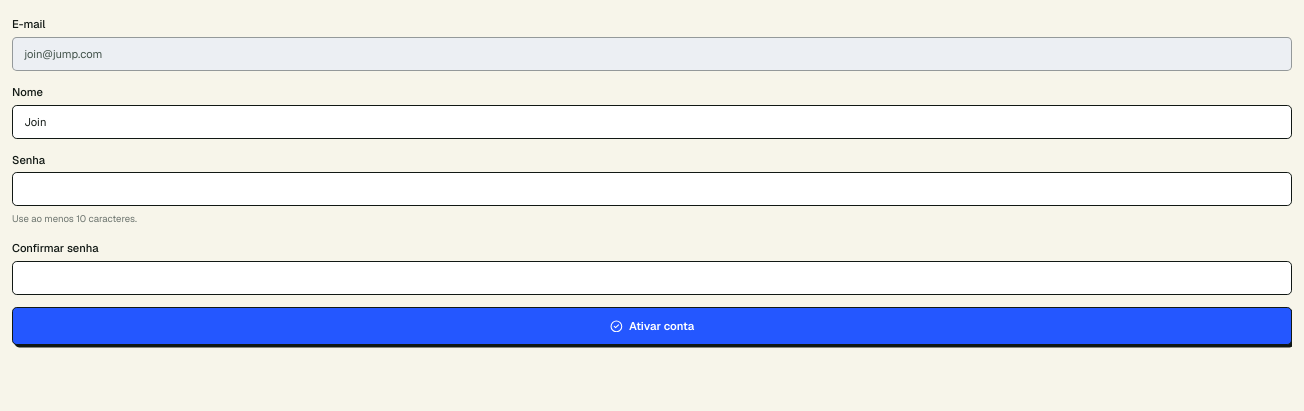
Test: AcceptInviteForm — client guards › does not submit when the confirmation does not match
In the password field labelled "Senha": (652,189) [12, 172, 1292, 206], type "uma-senha-bem-longa"
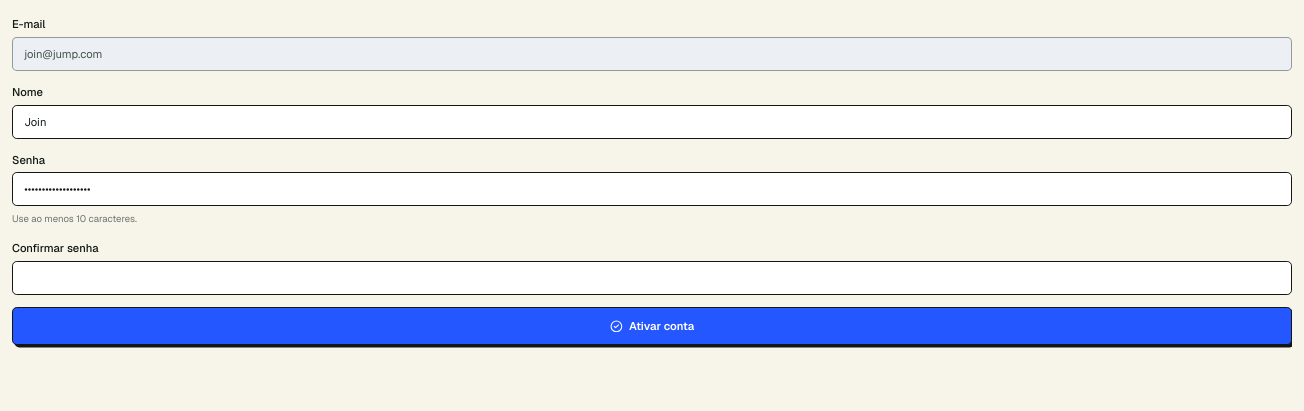
In the password field labelled "Confirmar senha": (652,278) [12, 261, 1292, 295], type "uma-senha-diferente"
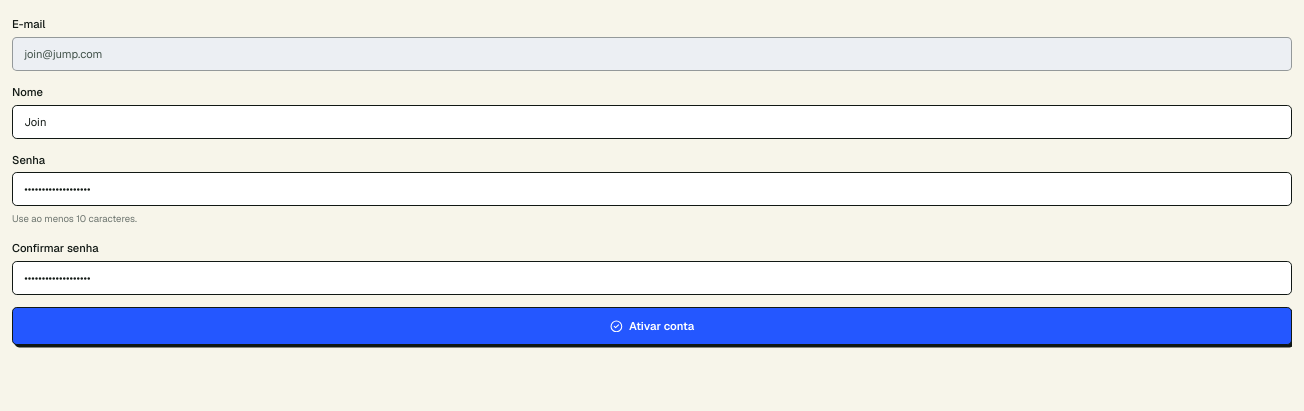
Submit the form "Ativar conta"
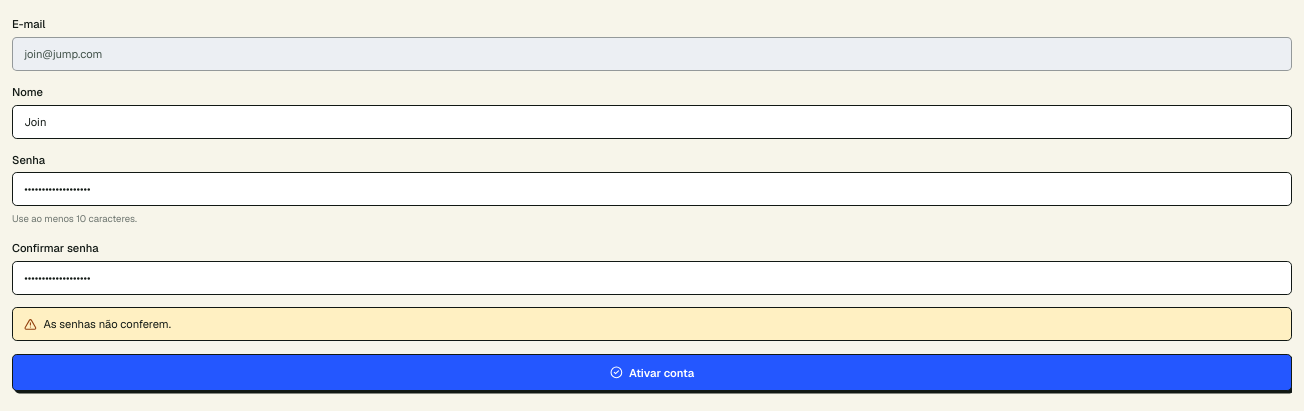
Check: the message shows "não conferem", box [43, 317, 171, 331]
